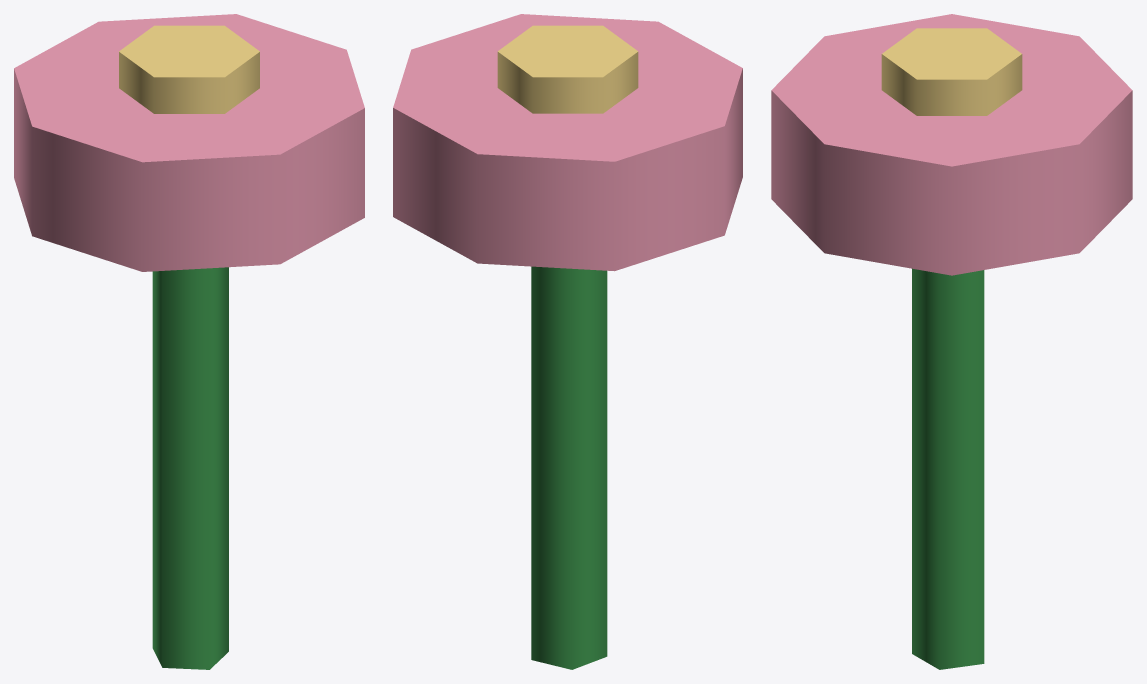
Rendered from flower_pink.glb.
The picture shows the model from 3 angles, left to right: view 1: azimuth 30°, elevation 25°; view 2: azimuth 150°, elevation 25°; view 3: azimuth 270°, elevation 25°; orthographic projection.
Parts seen in each view (by area): view 1: flower_pink; view 2: flower_pink; view 3: flower_pink.
Boxes of the visible parts, box(x1,y1,x2,y2) form: flower_pink: box(14, 14, 364, 669); flower_pink: box(393, 14, 742, 669); flower_pink: box(771, 14, 1132, 669).
Size of the model in its own units: 0.36 by 0.66 by 0.36.
